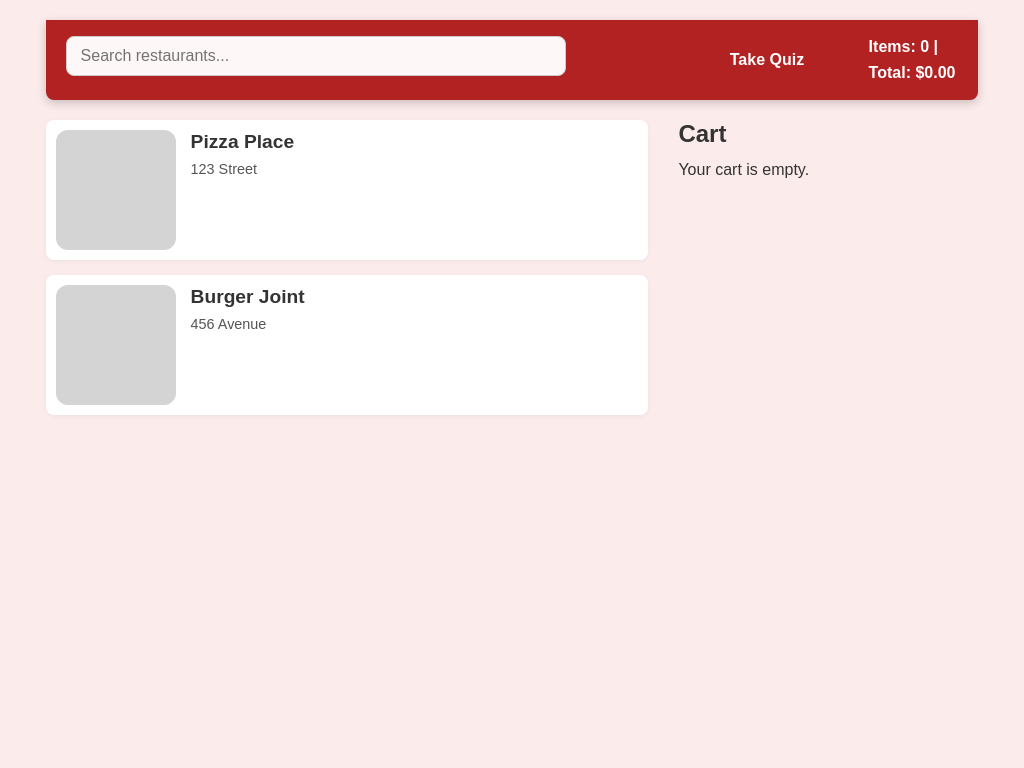
Test: Browse Component - coverage tests › back button resets menu items and search term
Click the heading "Pizza Place".
click(242, 142)  # box [191,131,294,152]
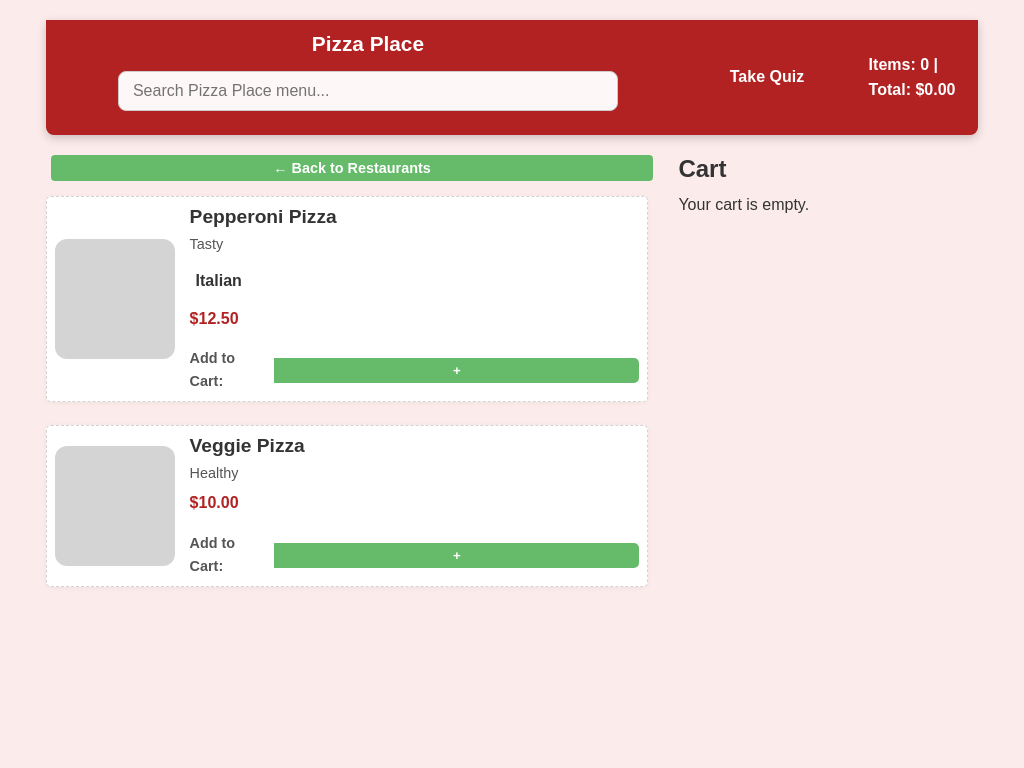
Result: the heading "Pepperoni Pizza" is shown at [190,206,337,227]
Type "Pepperoni" into the field with placeholder "Search Pizza Place menu...".
click(368, 91); type("Pepperoni")  # box [118,71,618,111]
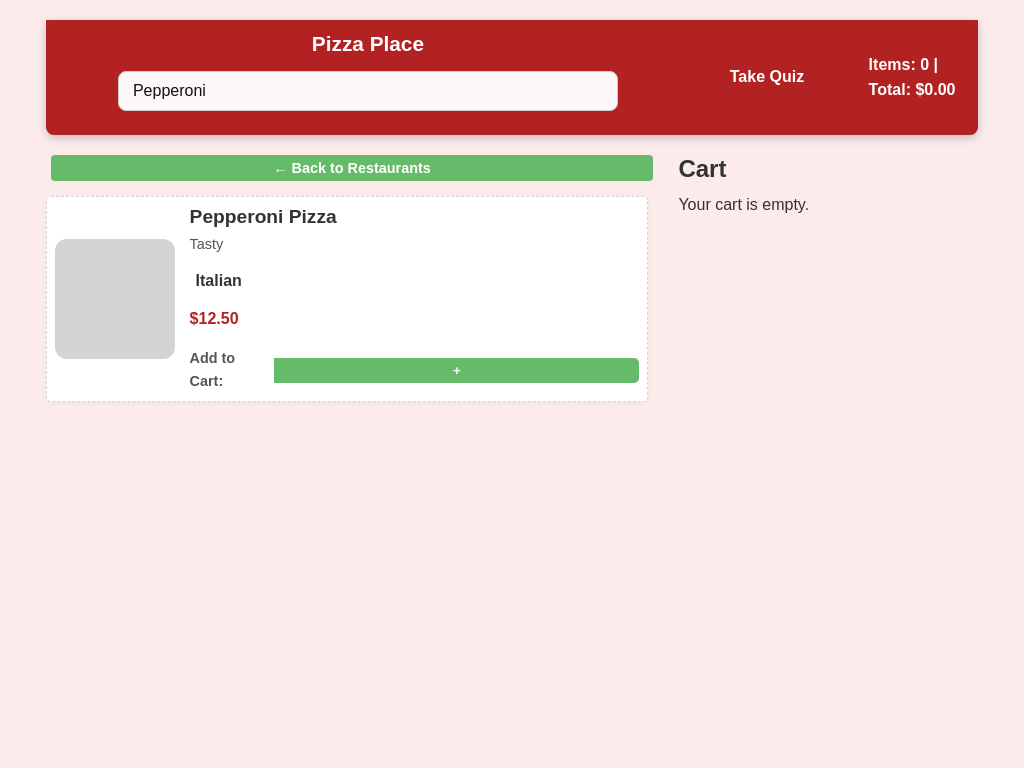
Click the button "← Back to Restaurants".
click(352, 168)  # box [51,155,653,181]
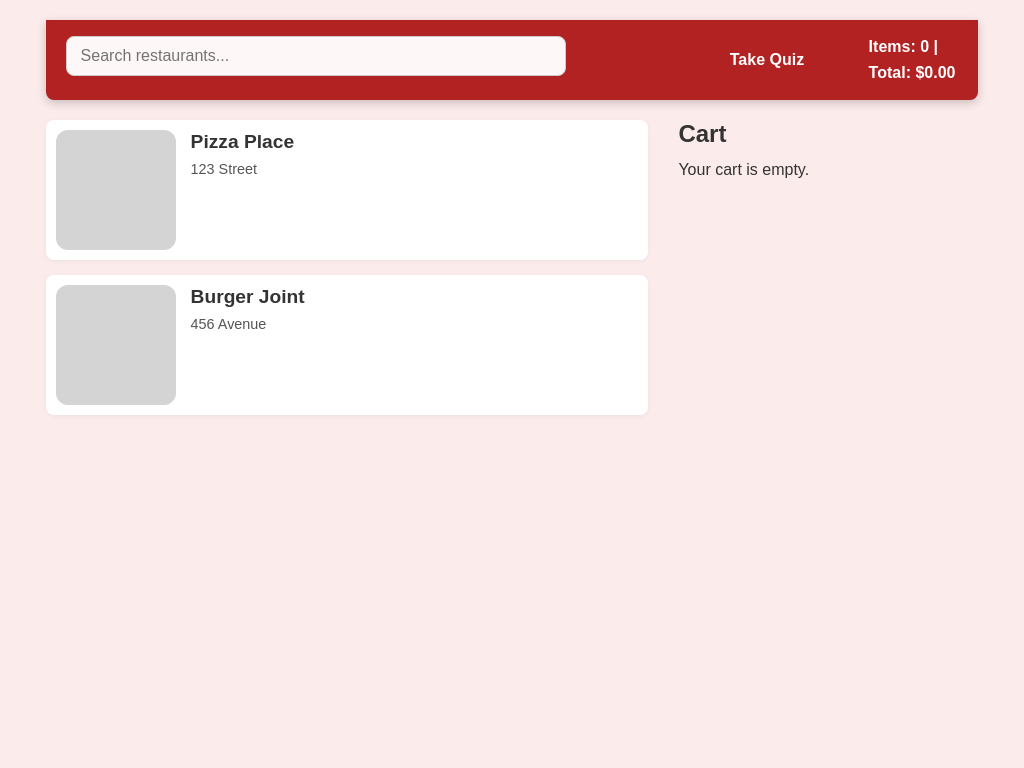
Result: the field with placeholder "Search restaurants..." is empty at [66,36,566,76]
Result: the heading "Pepperoni Pizza" is gone
